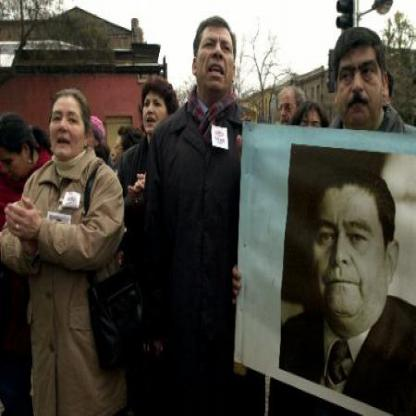face: (310, 168, 391, 322), (336, 29, 384, 130), (197, 19, 237, 99), (48, 90, 88, 162), (142, 81, 172, 137), (1, 134, 26, 187), (280, 86, 302, 130), (301, 105, 324, 146)
